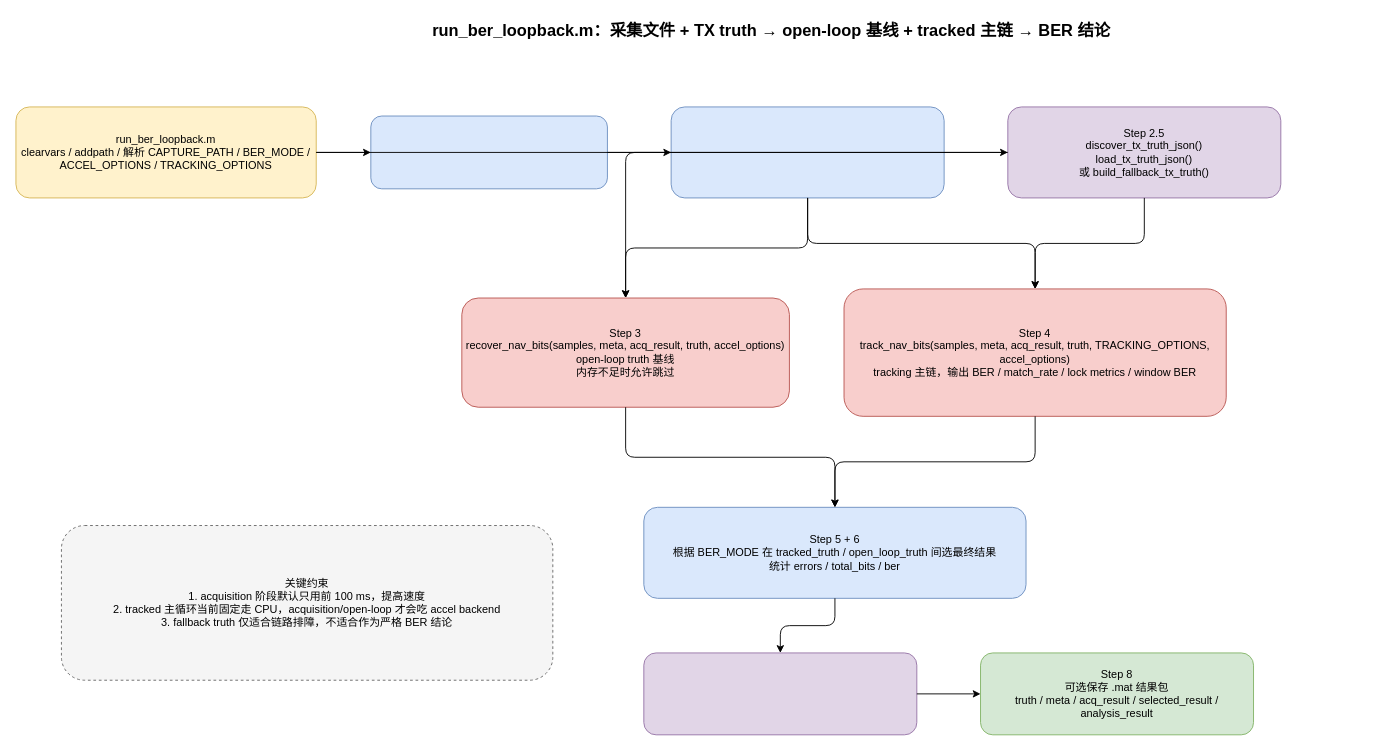
Image size: 1379x751. Some labels were removed from this diagram. The shapes that lost their labels are listed below. From the top down, each one's centre as x and y in pixels, then its label:
At [488,152]: "Step 1 load_gnss_rx_capture(CAPTURE_PATH, precision)".
At [807,152]: "Step 2 仅取前 100 ms 做 acquisition run_prn_acquisition(acq_samples, meta, acq_cfg)".
At [780,693]: "Step 7 plot_ber_loopback(analysis_result) 对照 open-loop / tracked / 锁定质量 / 局部 BER".
